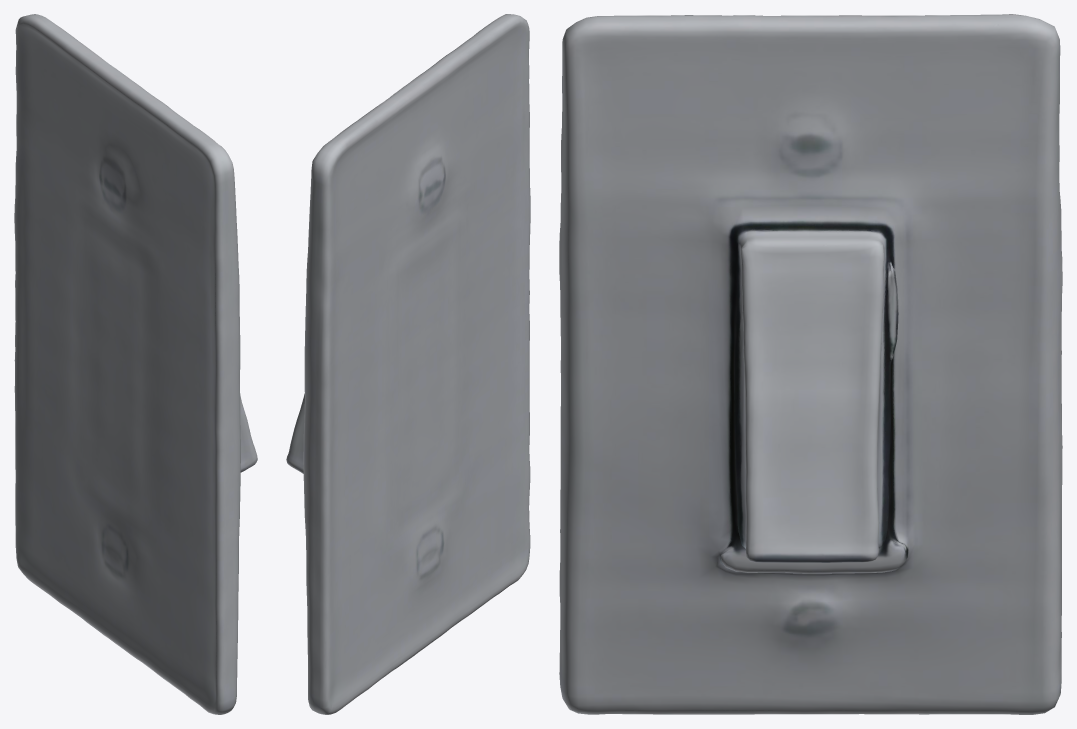
Rendered from 687484716f03_light_switch__3d_as.fbx.
3 views of the same model, side by side, from view 1: azimuth 30°, elevation 25°; view 2: azimuth 150°, elevation 25°; view 3: azimuth 270°, elevation 25° (orthographic). The views are drawn at different scales.
Visible parts, largest first — view 1: mesh; view 2: mesh; view 3: mesh.
Boxes of the visible parts, left/top/right/bottom form: mesh: left=14, top=14, right=257, bottom=714; mesh: left=286, top=14, right=530, bottom=714; mesh: left=559, top=14, right=1062, bottom=714.
Size of the model in its own units: 22.73 by 99.92 by 65.72.
